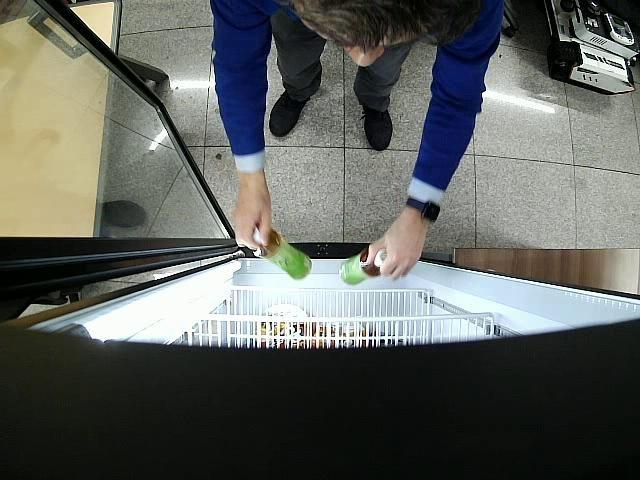19_17cha: (252, 227, 312, 280), (338, 249, 387, 285)
